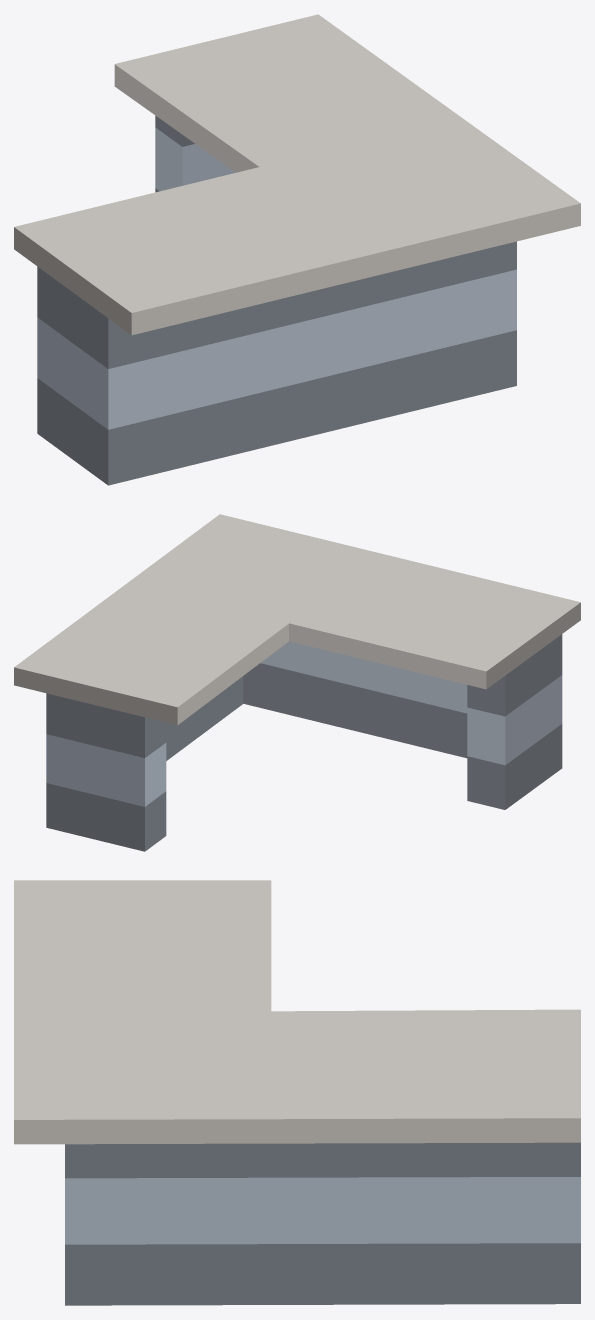
Rendered from Counter5.glb.
The picture shows the model from 3 angles, top to bottom: view 1: azimuth 30°, elevation 25°; view 2: azimuth 150°, elevation 25°; view 3: azimuth 270°, elevation 25°; orthographic projection. The views are drawn at different scales.
Visible parts, largest first — view 1: SI_Prop_Counter_06; view 2: SI_Prop_Counter_06; view 3: SI_Prop_Counter_06.
Boxes of the visible parts, <box> form: SI_Prop_Counter_06: <box>14,14,580,485</box>; SI_Prop_Counter_06: <box>14,514,580,851</box>; SI_Prop_Counter_06: <box>14,880,580,1305</box>.
Size of the model in its own units: 0.0366 by 0.0148 by 0.0366.
1 material, 1 textured.
